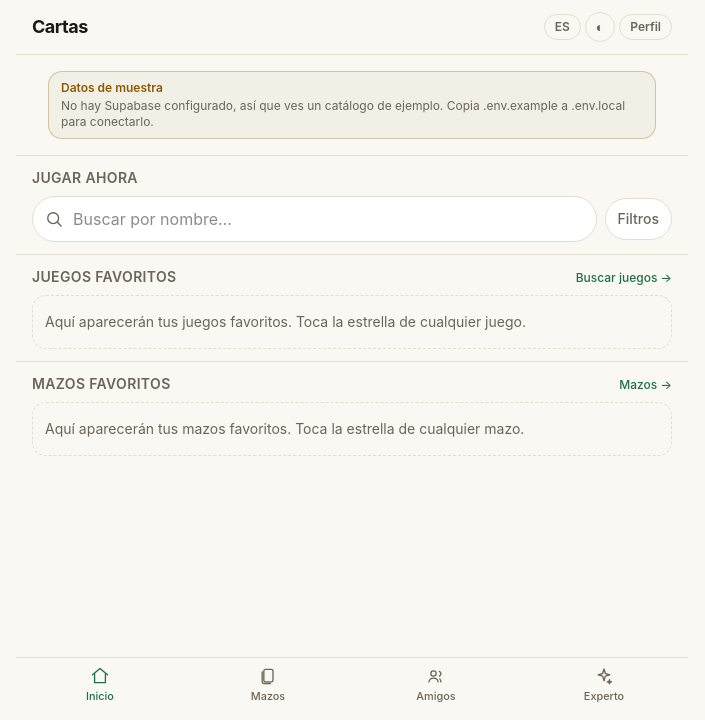
Scenario: home › opens the filters in place, in submenus, and never leaves the page
// a button, not a link to another page
Click the button "Filtros" at (638, 219), box [605,198,672,240]
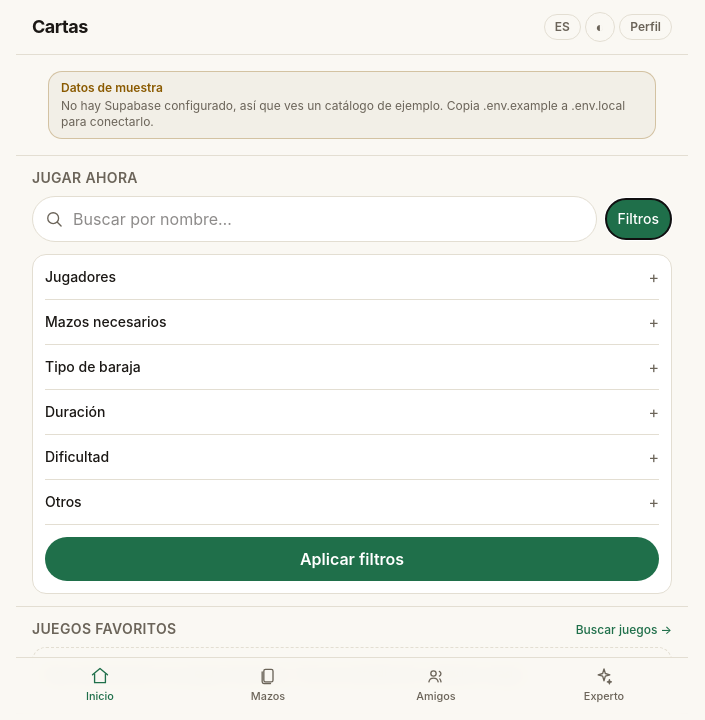
Expected: the button "Jugadores +" is shown, [45,255,659,299]
Expected: the button "Duración +" is shown, [45,390,659,434]
Expected: the button "Aplicar filtros" is shown, [45,537,659,581]
